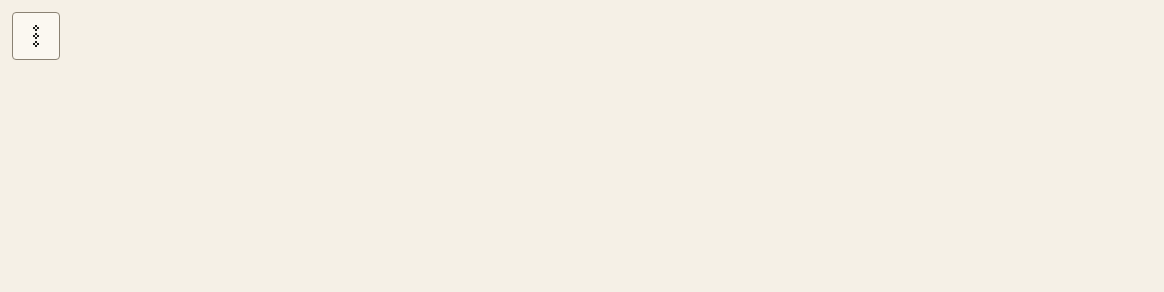
Test: CardMenu › Esc closes and returns the focus
Click the button named "More for Coast run": x=36, y=36 [12,12,60,60]
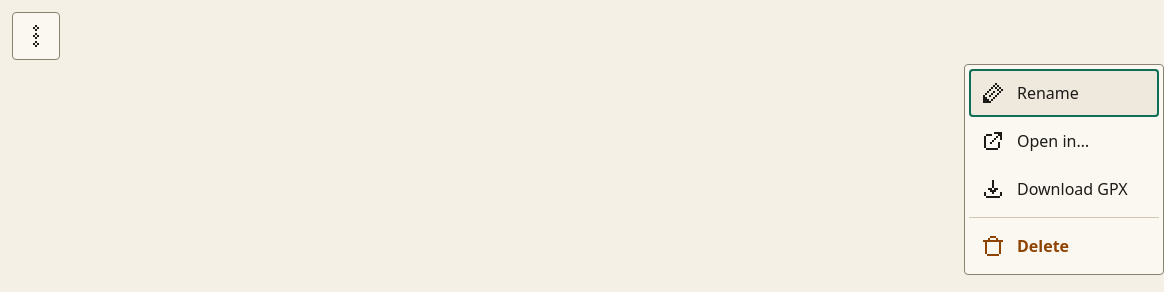
Press Escape in the menu item "Rename", box [969,69,1159,117]
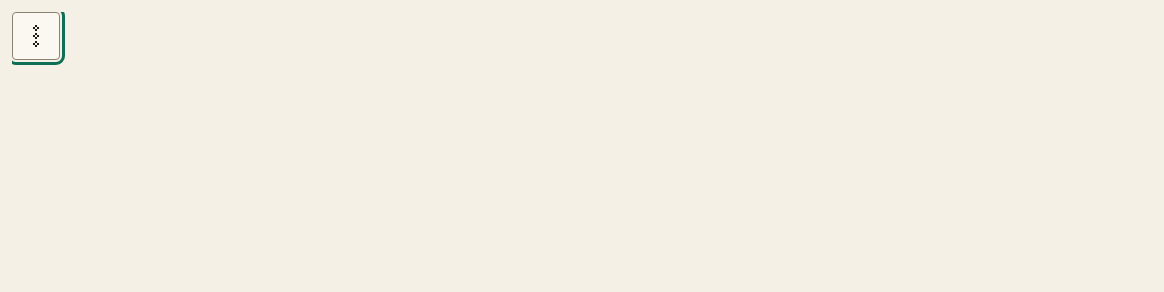
Now the menu is gone
